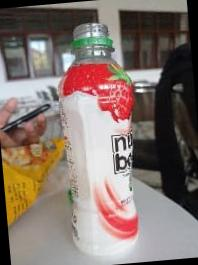Plastik: (60, 23, 138, 255)
